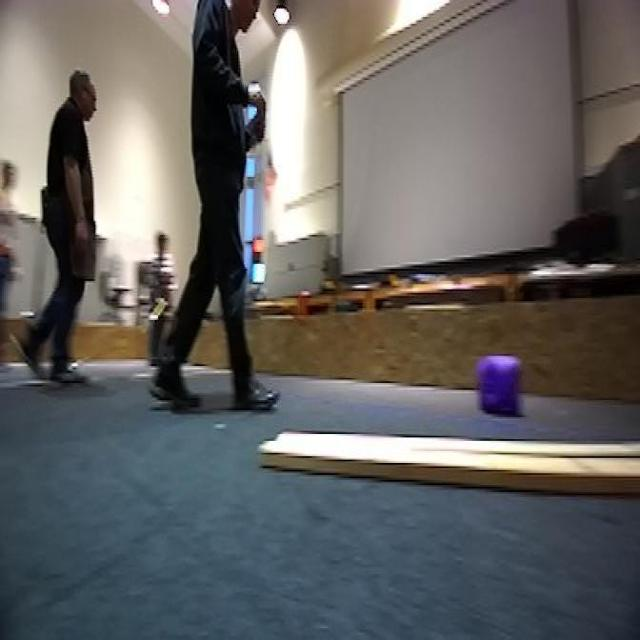frc_cube: (475, 356, 523, 418)
